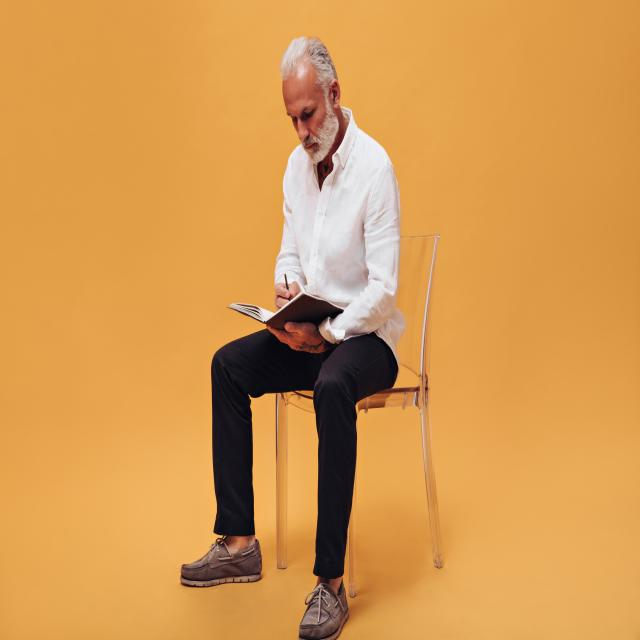idoso sentado: (206, 39, 448, 638)
